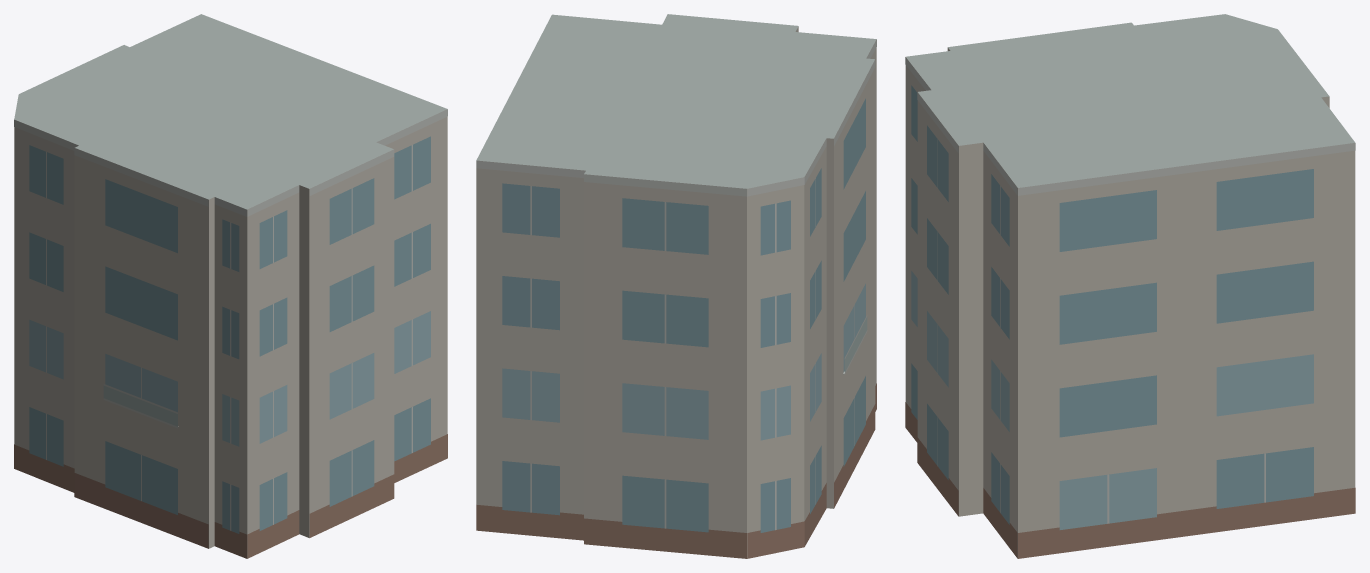
The model's file is survey-upis-33031001.glb.
3 views of the same model, side by side, from view 1: azimuth 30°, elevation 25°; view 2: azimuth 150°, elevation 25°; view 3: azimuth 270°, elevation 25° (orthographic). The views are drawn at different scales.
Parts seen in each view (by area): view 1: survey-upis-33031001.tmp; view 2: survey-upis-33031001.tmp; view 3: survey-upis-33031001.tmp.
Part boxes in pixels (bbox=[...]): survey-upis-33031001.tmp: bbox=[14, 14, 447, 558]; survey-upis-33031001.tmp: bbox=[476, 14, 876, 558]; survey-upis-33031001.tmp: bbox=[905, 14, 1355, 558].
Size of the model in its own units: 11.66 by 11.57 by 12.74.
